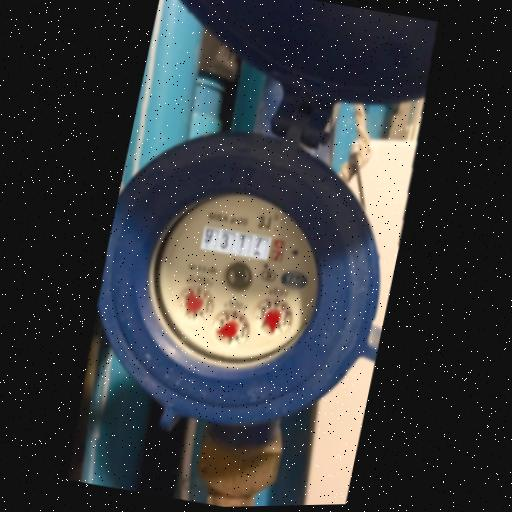1: (235, 233, 251, 254)
3: (219, 231, 235, 251)
6: (270, 239, 285, 262)
7: (252, 236, 268, 257)
9: (202, 228, 218, 249)
border_water_meter_number: (199, 223, 288, 266)
